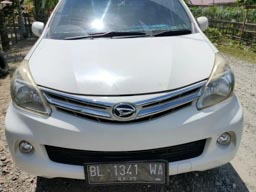plat: (84, 164, 166, 176)
